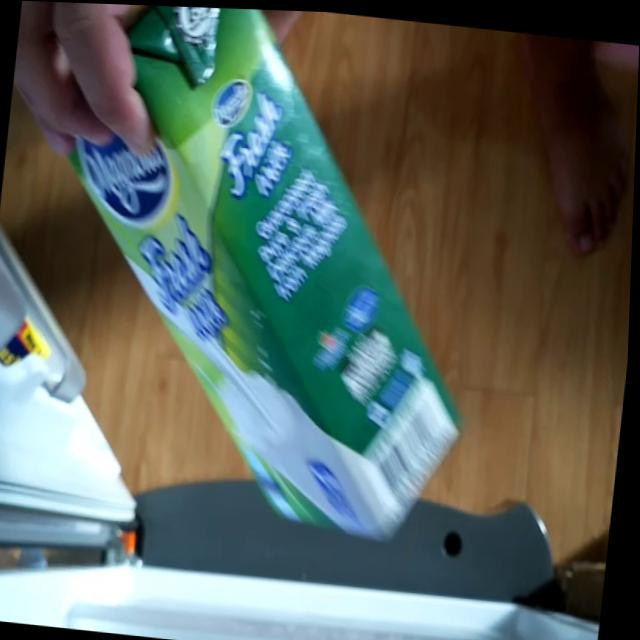milk: (0, 0, 511, 558)
